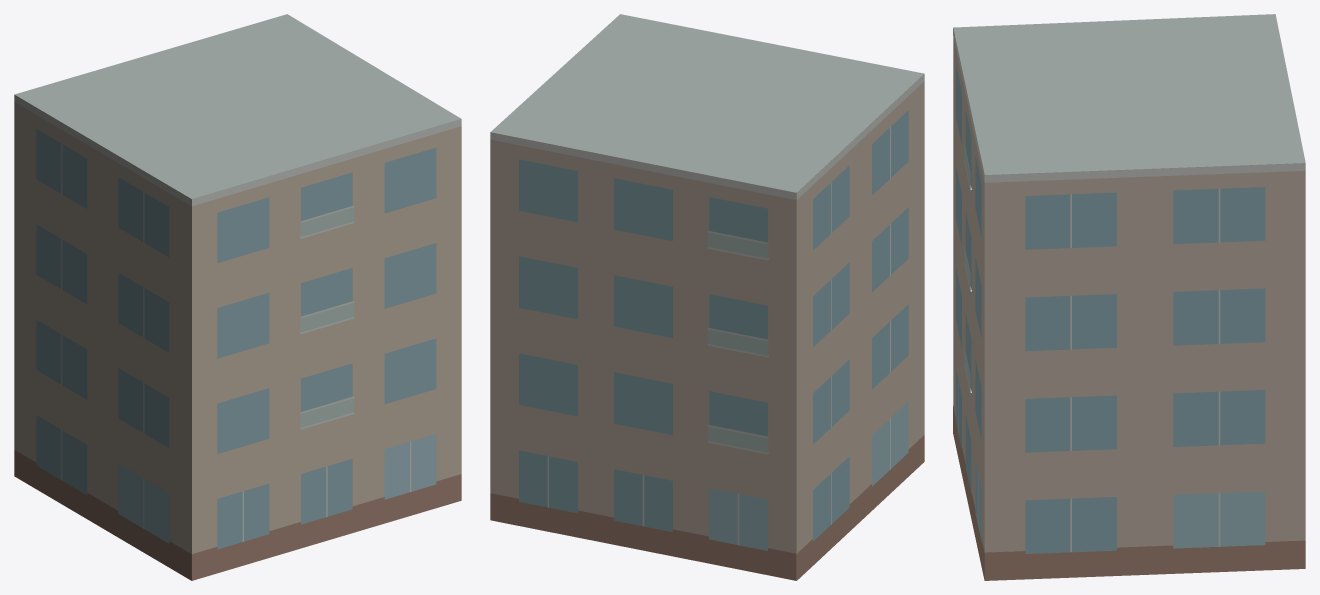
The model's file is survey-upis-32664856.glb.
The picture shows the model from 3 angles, left to right: view 1: azimuth 30°, elevation 25°; view 2: azimuth 150°, elevation 25°; view 3: azimuth 270°, elevation 25°; orthographic projection. The views are drawn at different scales.
Parts seen in each view (by area): view 1: survey-upis-32664856.tmp; view 2: survey-upis-32664856.tmp; view 3: survey-upis-32664856.tmp.
Boxes of the visible parts, left/top/right/bottom form: survey-upis-32664856.tmp: left=14, top=14, right=461, bottom=580; survey-upis-32664856.tmp: left=490, top=14, right=924, bottom=580; survey-upis-32664856.tmp: left=953, top=14, right=1305, bottom=580.
Bounding box in the file's own units: 10.91 × 12.8 × 10.09.
